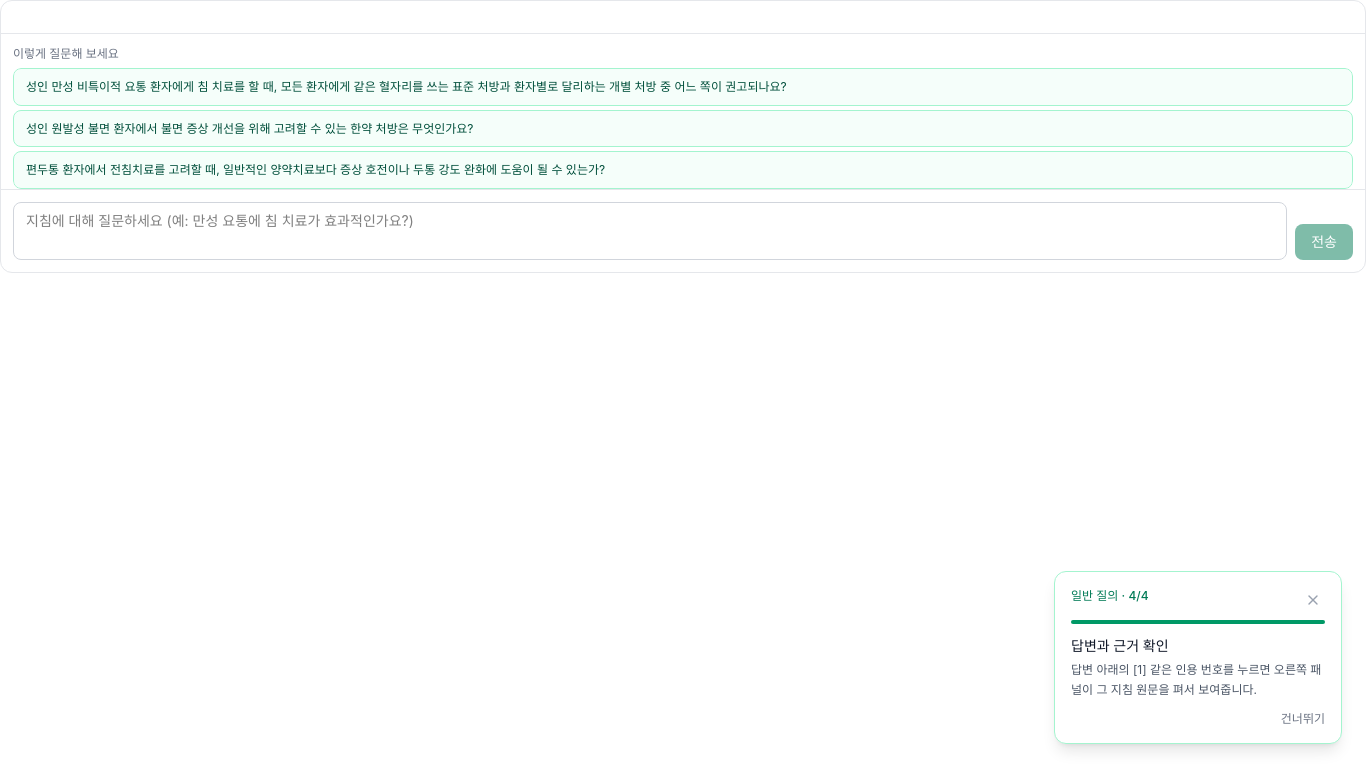
it: 예시 질의문과 전송이 다음 단계를 넘긴다 › 답변이 종결되면 스스로 완료로 넘어간다
Type "요통 치료 방법을 알려주세요." into the text box named "질문 입력" at (650, 230), box 13,202 -> 1287,260
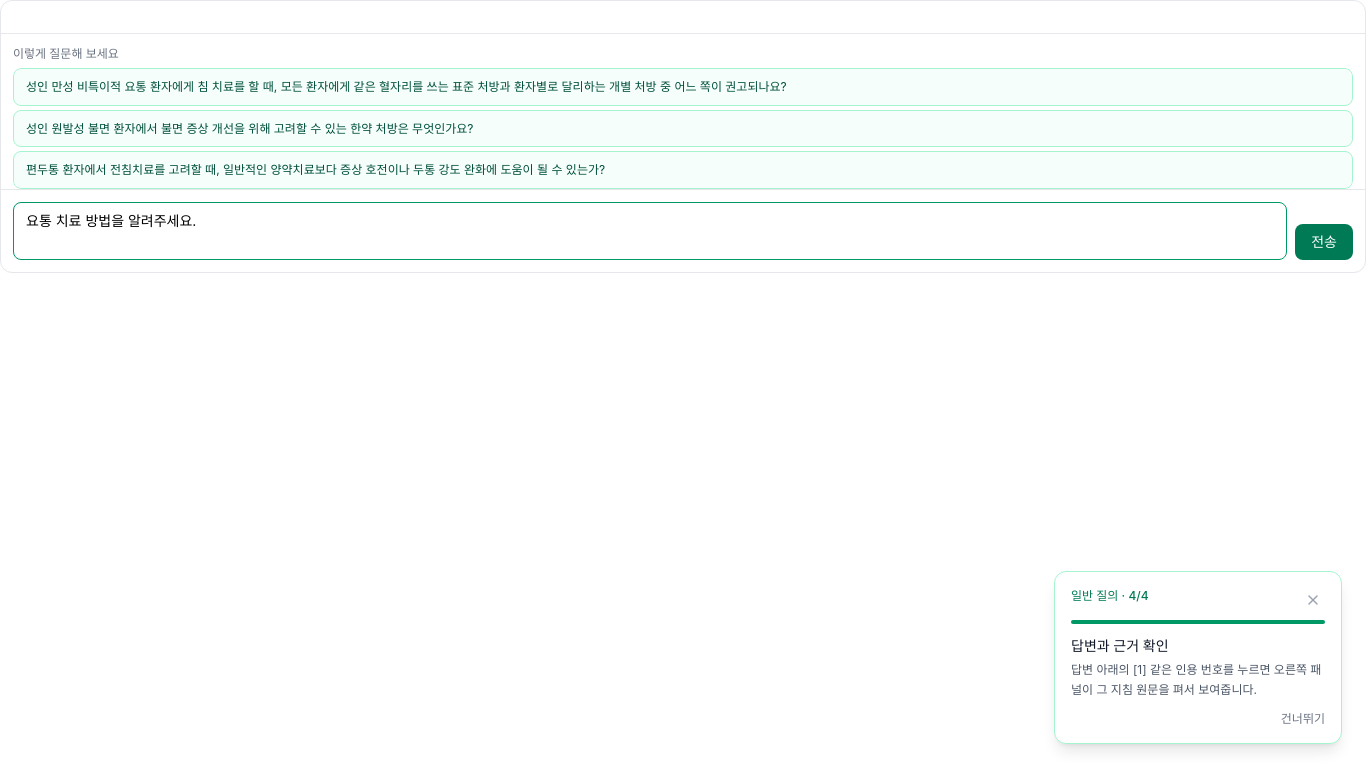
Click the button "전송" at (1324, 242), box 1295,224 -> 1353,260
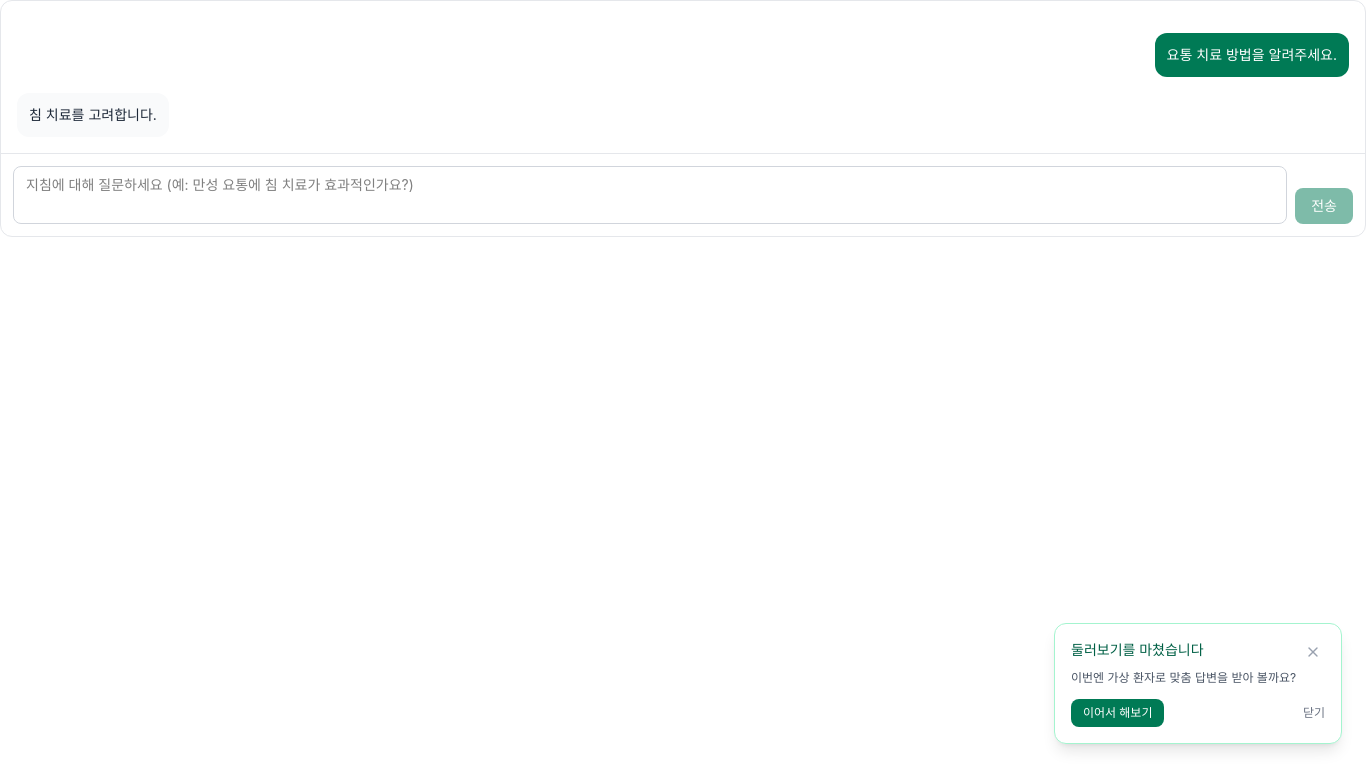
Expected: the text "둘러보기를 마쳤습니다" is shown, 1071,640 -> 1204,660
